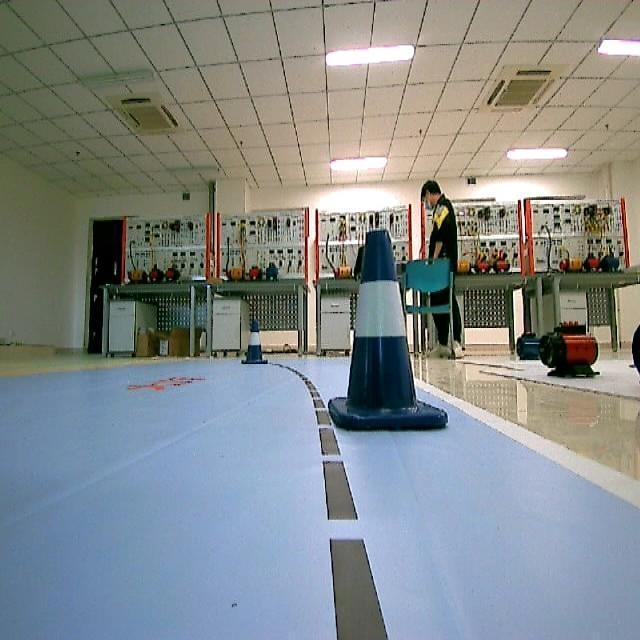obstacle: (321, 228, 451, 441), (240, 320, 268, 368)
